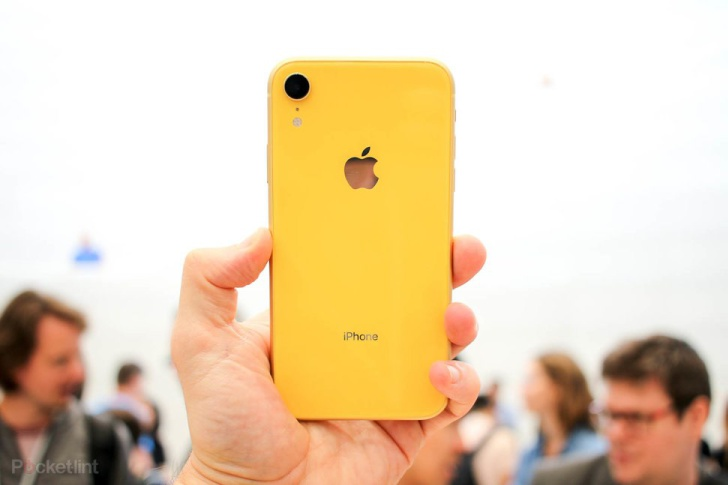apple: (337, 139, 397, 202)
